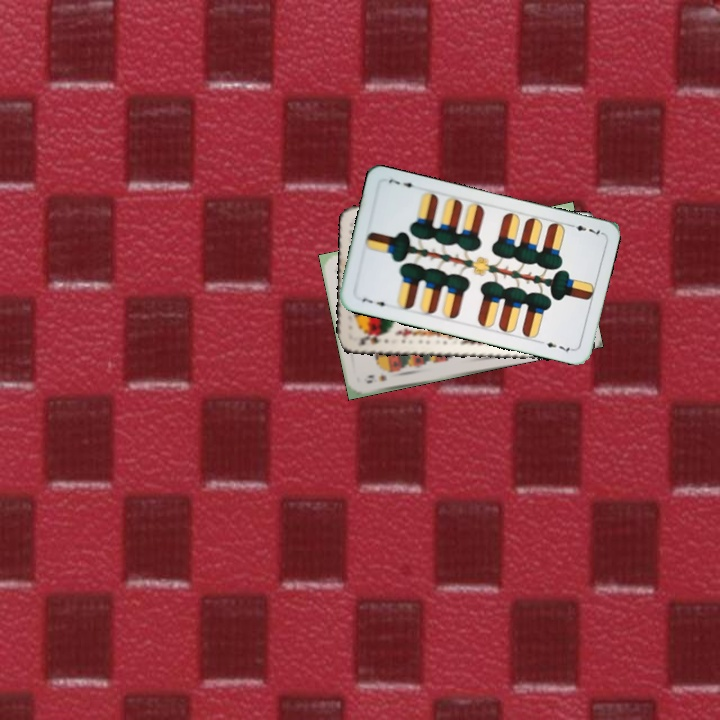E7: (564, 219, 604, 239), (358, 294, 392, 310)
S9: (362, 371, 389, 386)
SK: (356, 330, 391, 348)
